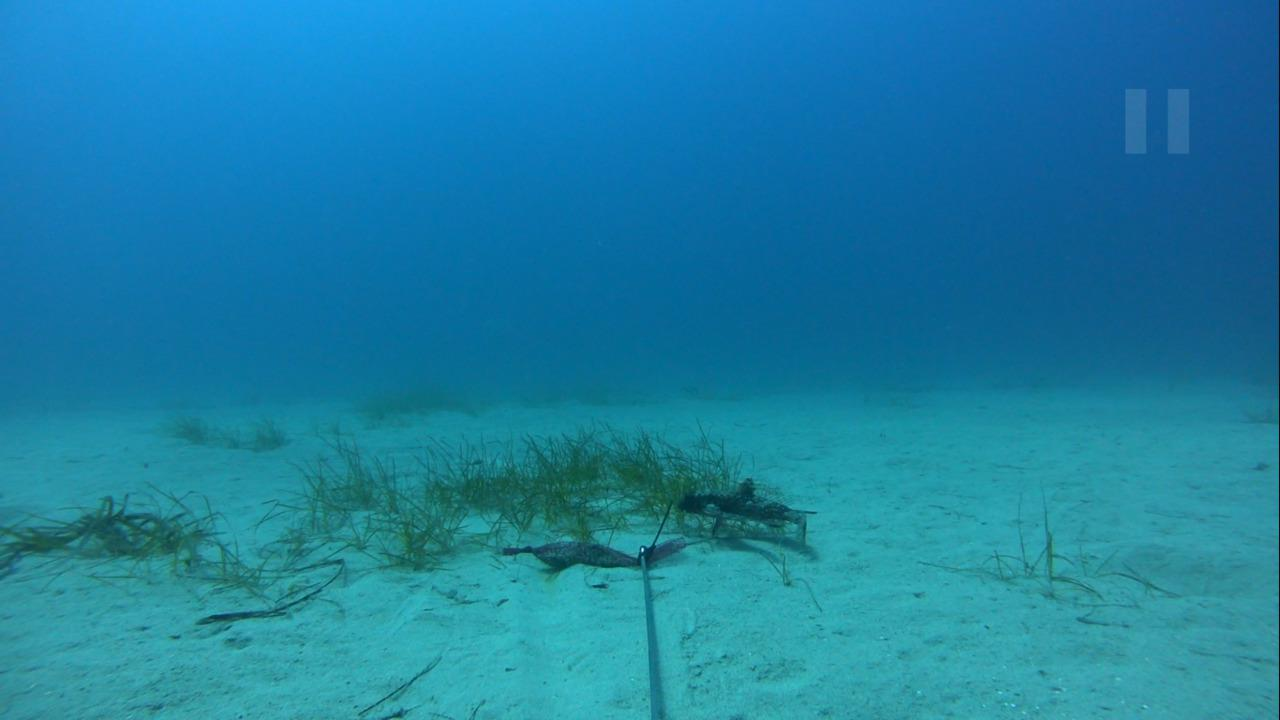dactylopterus: (675, 477, 823, 541)
